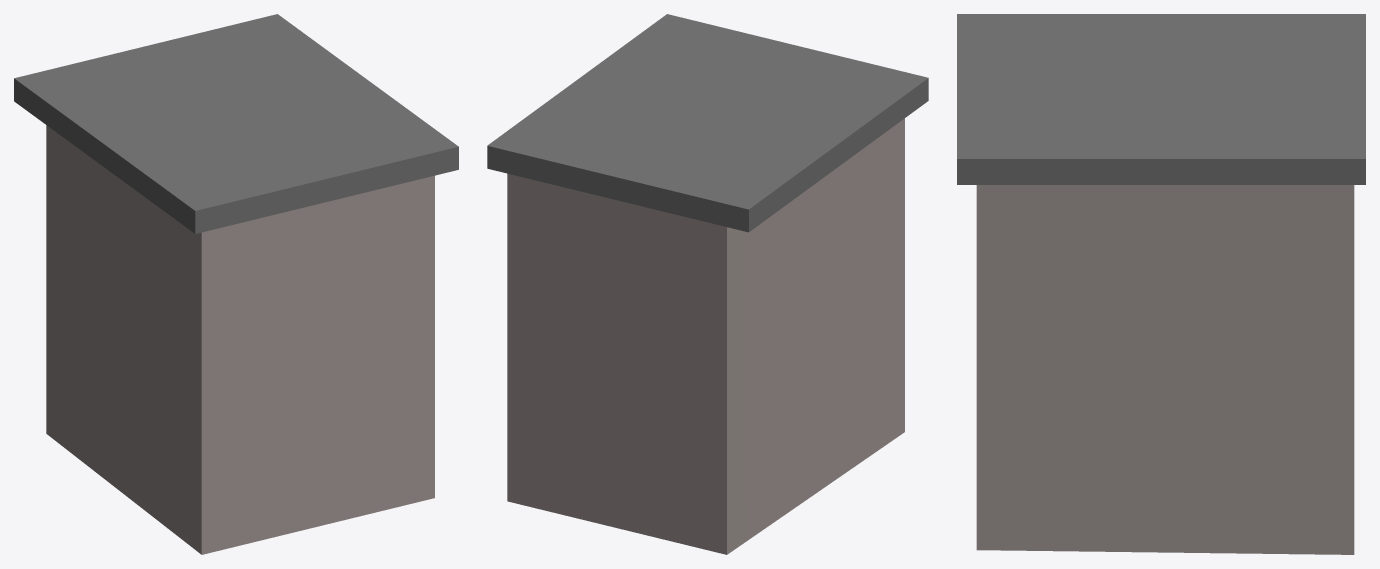
The model's file is kitchen_item_041.fbx.
The picture shows the model from 3 angles, left to right: view 1: azimuth 30°, elevation 25°; view 2: azimuth 150°, elevation 25°; view 3: azimuth 270°, elevation 25°; orthographic projection. The views are drawn at different scales.
Visible parts, largest first — view 1: kitchen_item_041; view 2: kitchen_item_041; view 3: kitchen_item_041.
Boxes of the visible parts, x1,y1,x2,y2 form: kitchen_item_041: (14, 14, 458, 554); kitchen_item_041: (487, 14, 928, 554); kitchen_item_041: (957, 14, 1365, 554).
Bounding box in the file's own units: 64.9 × 77.32 × 84.33.
